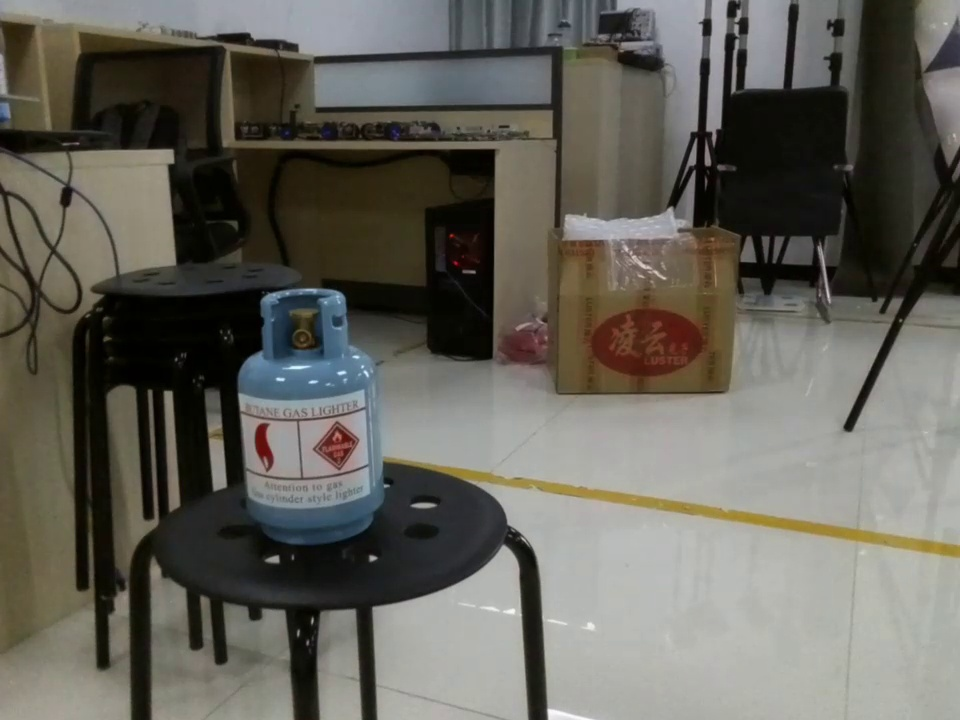gas tank: (231, 281, 392, 545)
